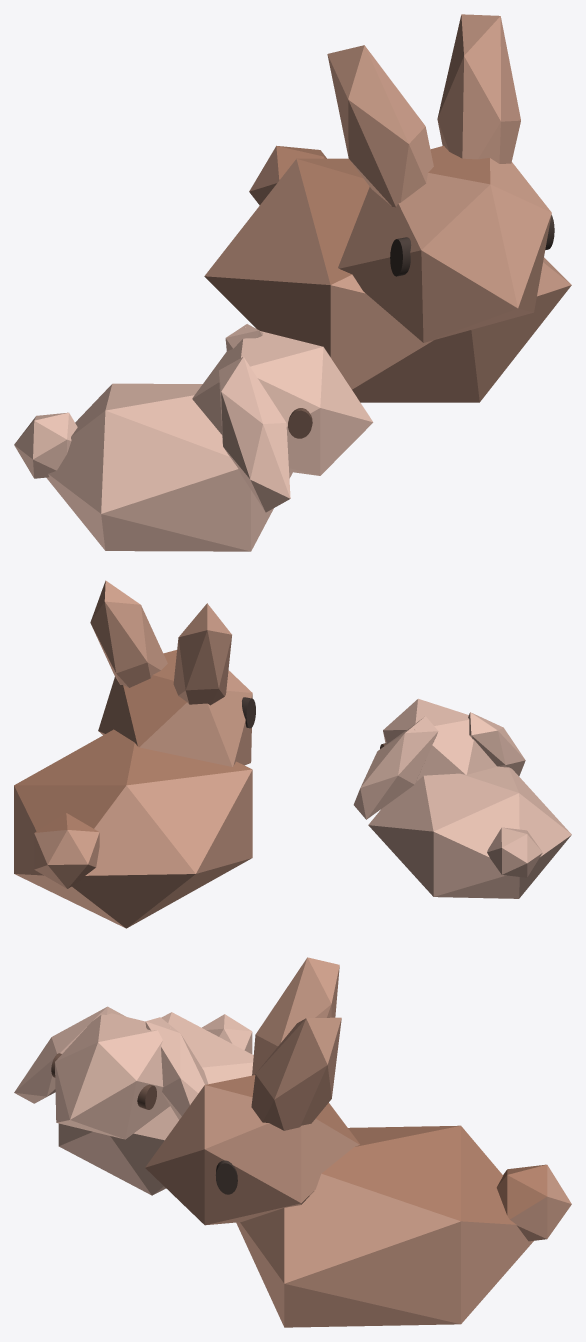
File: bunnies.fbx
The picture shows the model from 3 angles, top to bottom: view 1: azimuth 30°, elevation 25°; view 2: azimuth 150°, elevation 25°; view 3: azimuth 270°, elevation 25°; orthographic projection. The views are drawn at different scales.
Visible parts, largest first — view 1: pPlatonic1, pPlatonic2, pasted__pPlatonic1, pasted__pPlatonic4 (×2), pasted__pPlatonic2, pPlatonic4, pasted__pPlatonic3, pPlatonic3, pCylinder1; view 2: pPlatonic1, pasted__pPlatonic1, pPlatonic2, pasted__pPlatonic4 (×2), pPlatonic4, pasted__pPlatonic2, pasted__pasted__pPlatonic4, pPlatonic3, pasted__pPlatonic3; view 3: pPlatonic1, pPlatonic2, pasted__pPlatonic2, pasted__pPlatonic4 (×2), pasted__pPlatonic1, pPlatonic4, pPlatonic3, pasted__pasted__pPlatonic4, pasted__pPlatonic3, pCylinder1, pasted__pCylinder1.
Part boxes in pixels (box(x1,y1,x2,y2)): pPlatonic1: box(204, 158, 571, 402); pPlatonic2: box(338, 145, 551, 342); pasted__pPlatonic1: box(46, 383, 292, 551); pasted__pPlatonic4 (×2): box(219, 14, 520, 512); pasted__pPlatonic2: box(192, 327, 373, 475); pPlatonic4: box(327, 45, 433, 207); pasted__pPlatonic3: box(14, 412, 77, 478); pPlatonic3: box(249, 145, 326, 205); pCylinder1: box(390, 215, 554, 276); pPlatonic1: box(14, 729, 252, 928); pasted__pPlatonic1: box(368, 766, 571, 898); pPlatonic2: box(98, 650, 252, 766); pasted__pPlatonic4 (×2): box(90, 580, 525, 776); pPlatonic4: box(173, 603, 231, 705); pasted__pPlatonic2: box(383, 698, 497, 781); pasted__pasted__pPlatonic4: box(353, 716, 438, 819); pPlatonic3: box(34, 813, 99, 888); pasted__pPlatonic3: box(487, 827, 542, 877); pPlatonic1: box(236, 1125, 533, 1327); pPlatonic2: box(145, 1075, 359, 1225); pasted__pPlatonic2: box(55, 1013, 170, 1139); pasted__pPlatonic4 (×2): box(14, 1006, 341, 1130); pasted__pPlatonic1: box(58, 1012, 253, 1195); pPlatonic4: box(252, 957, 339, 1075); pPlatonic3: box(496, 1164, 571, 1241); pasted__pasted__pPlatonic4: box(145, 1017, 208, 1119); pasted__pPlatonic3: box(202, 1014, 252, 1053); pCylinder1: box(215, 1160, 237, 1194); pasted__pCylinder1: box(51, 1053, 156, 1109).
Size of the model in its own units: 5.46 by 3.34 by 5.16.
